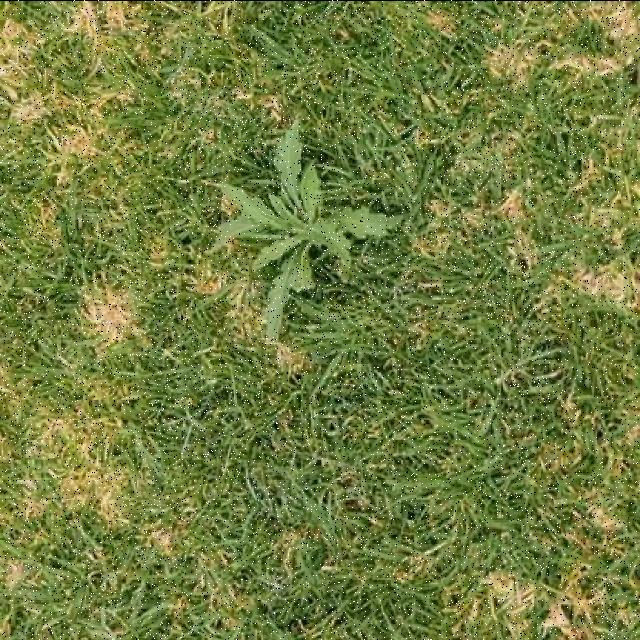weed: (215, 122, 401, 335)
